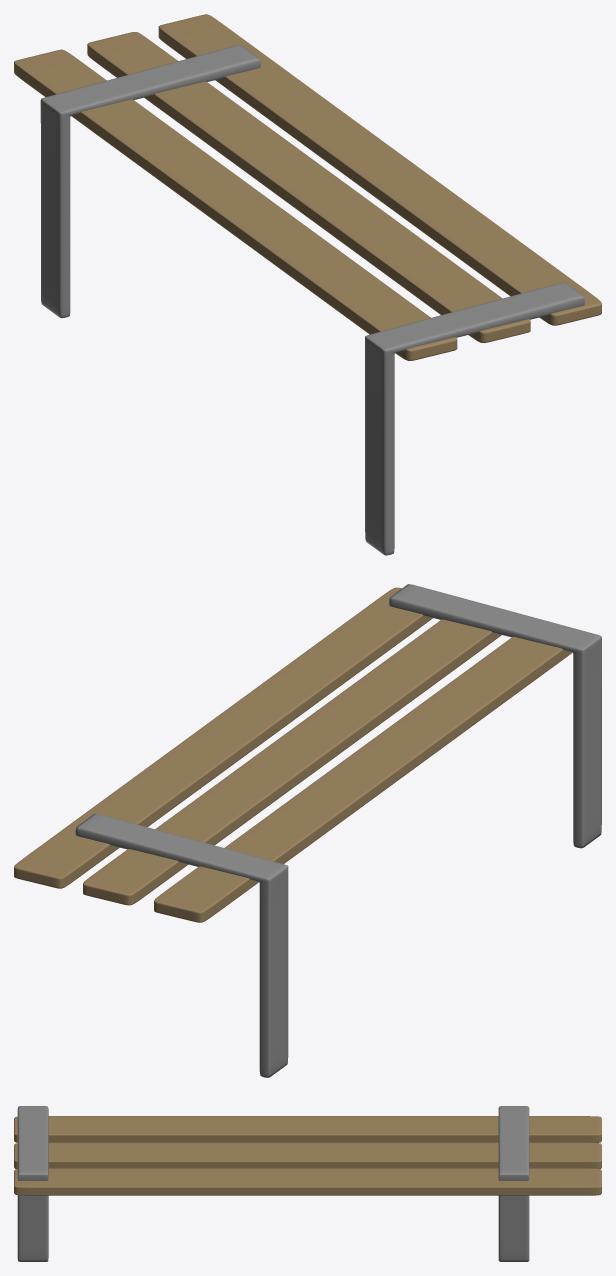
File: M_Tablas ventana arriba.fbx
3 renders of one model, top to bottom at view 1: azimuth 30°, elevation 25°; view 2: azimuth 150°, elevation 25°; view 3: azimuth 270°, elevation 25°, orthographic. The views are drawn at different scales.
Visible parts, largest first — view 1: pPlane8; view 2: pPlane8; view 3: pPlane8.
Boxes of the visible parts, left/top/right/bottom form: pPlane8: left=14, top=14, right=601, bottom=555; pPlane8: left=14, top=584, right=601, bottom=1077; pPlane8: left=14, top=1106, right=601, bottom=1261.
Size of the model in its own units: 13.17 by 12.25 by 41.55.
